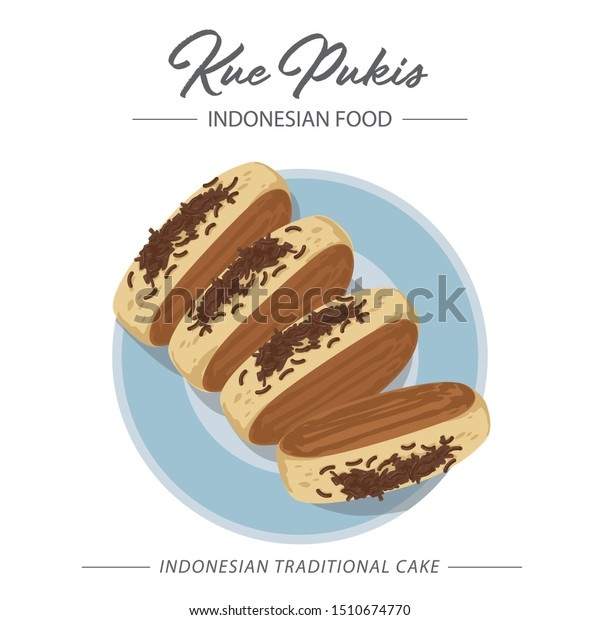pukis: (277, 385, 502, 522)
